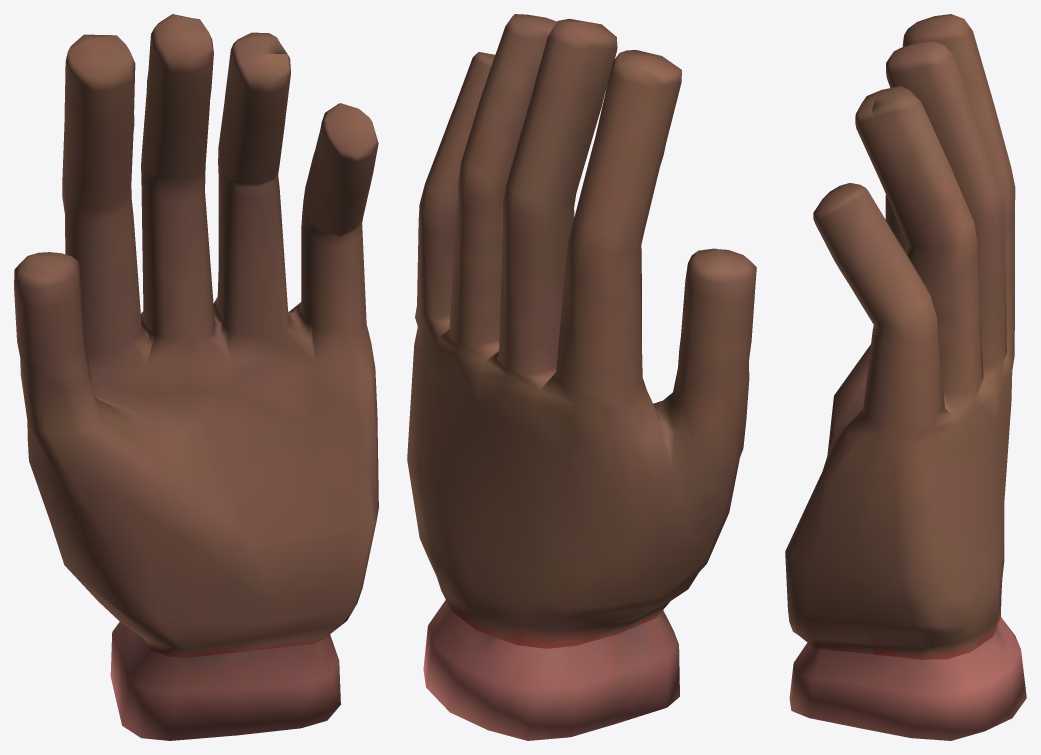
Rendered from mkalh.obj.
3 views of the same model, side by side, from view 1: azimuth 30°, elevation 25°; view 2: azimuth 150°, elevation 25°; view 3: azimuth 270°, elevation 25° (orthographic). The views are drawn at different scales.
Visible parts, largest first — view 1: Left_Hand_Untitled.003; view 2: Left_Hand_Untitled.003; view 3: Left_Hand_Untitled.003.
Part boxes in pixels (x1,y1,x2,y2): Left_Hand_Untitled.003: (14, 14, 378, 740); Left_Hand_Untitled.003: (407, 14, 756, 740); Left_Hand_Untitled.003: (785, 14, 1026, 740).
Size of the model in its own units: 0.2471 by 0.4739 by 0.1615.
Materials: 1 (1 with a texture image).
